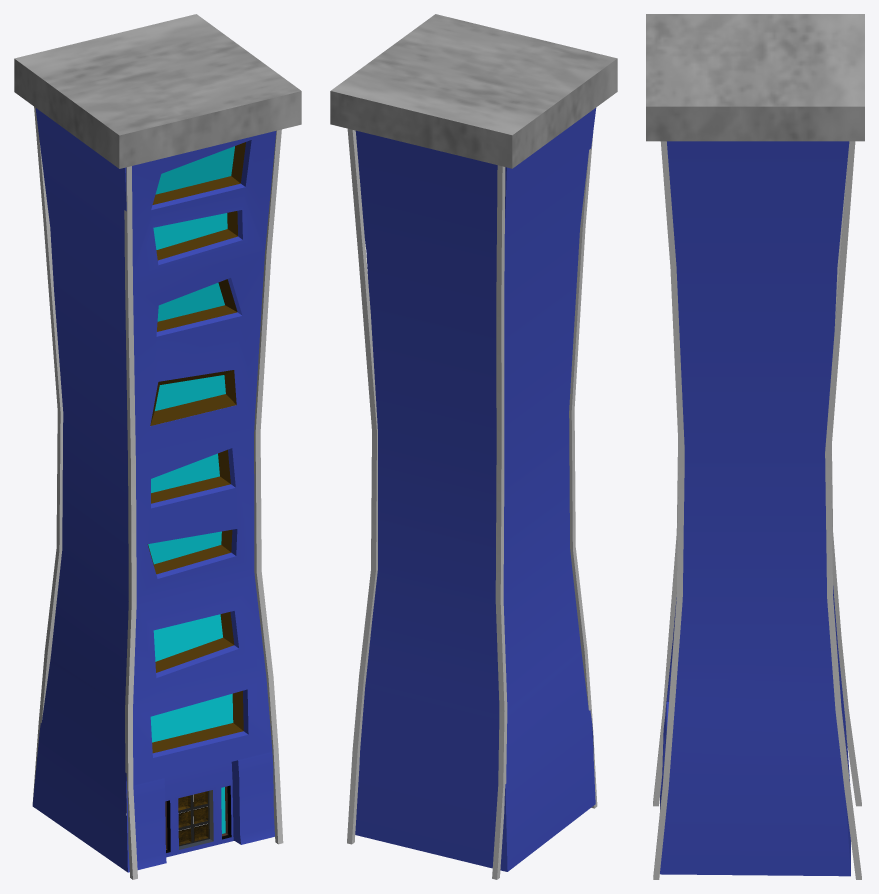
The model's file is PredioAltoFino-AzulLOD0.fbx.
3 views of the same model, side by side, from view 1: azimuth 30°, elevation 25°; view 2: azimuth 150°, elevation 25°; view 3: azimuth 270°, elevation 25° (orthographic). The views are drawn at different scales.
Parts seen in each view (by area): view 1: PredioAltoFino; view 2: PredioAltoFino; view 3: PredioAltoFino.
Boxes of the visible parts, x1=… form: PredioAltoFino: x1=14, y1=14, x2=301, y2=879; PredioAltoFino: x1=330, y1=14, x2=617, y2=879; PredioAltoFino: x1=646, y1=14, x2=864, y2=879.
Size of the model in its own units: 635 by 2498 by 635.
